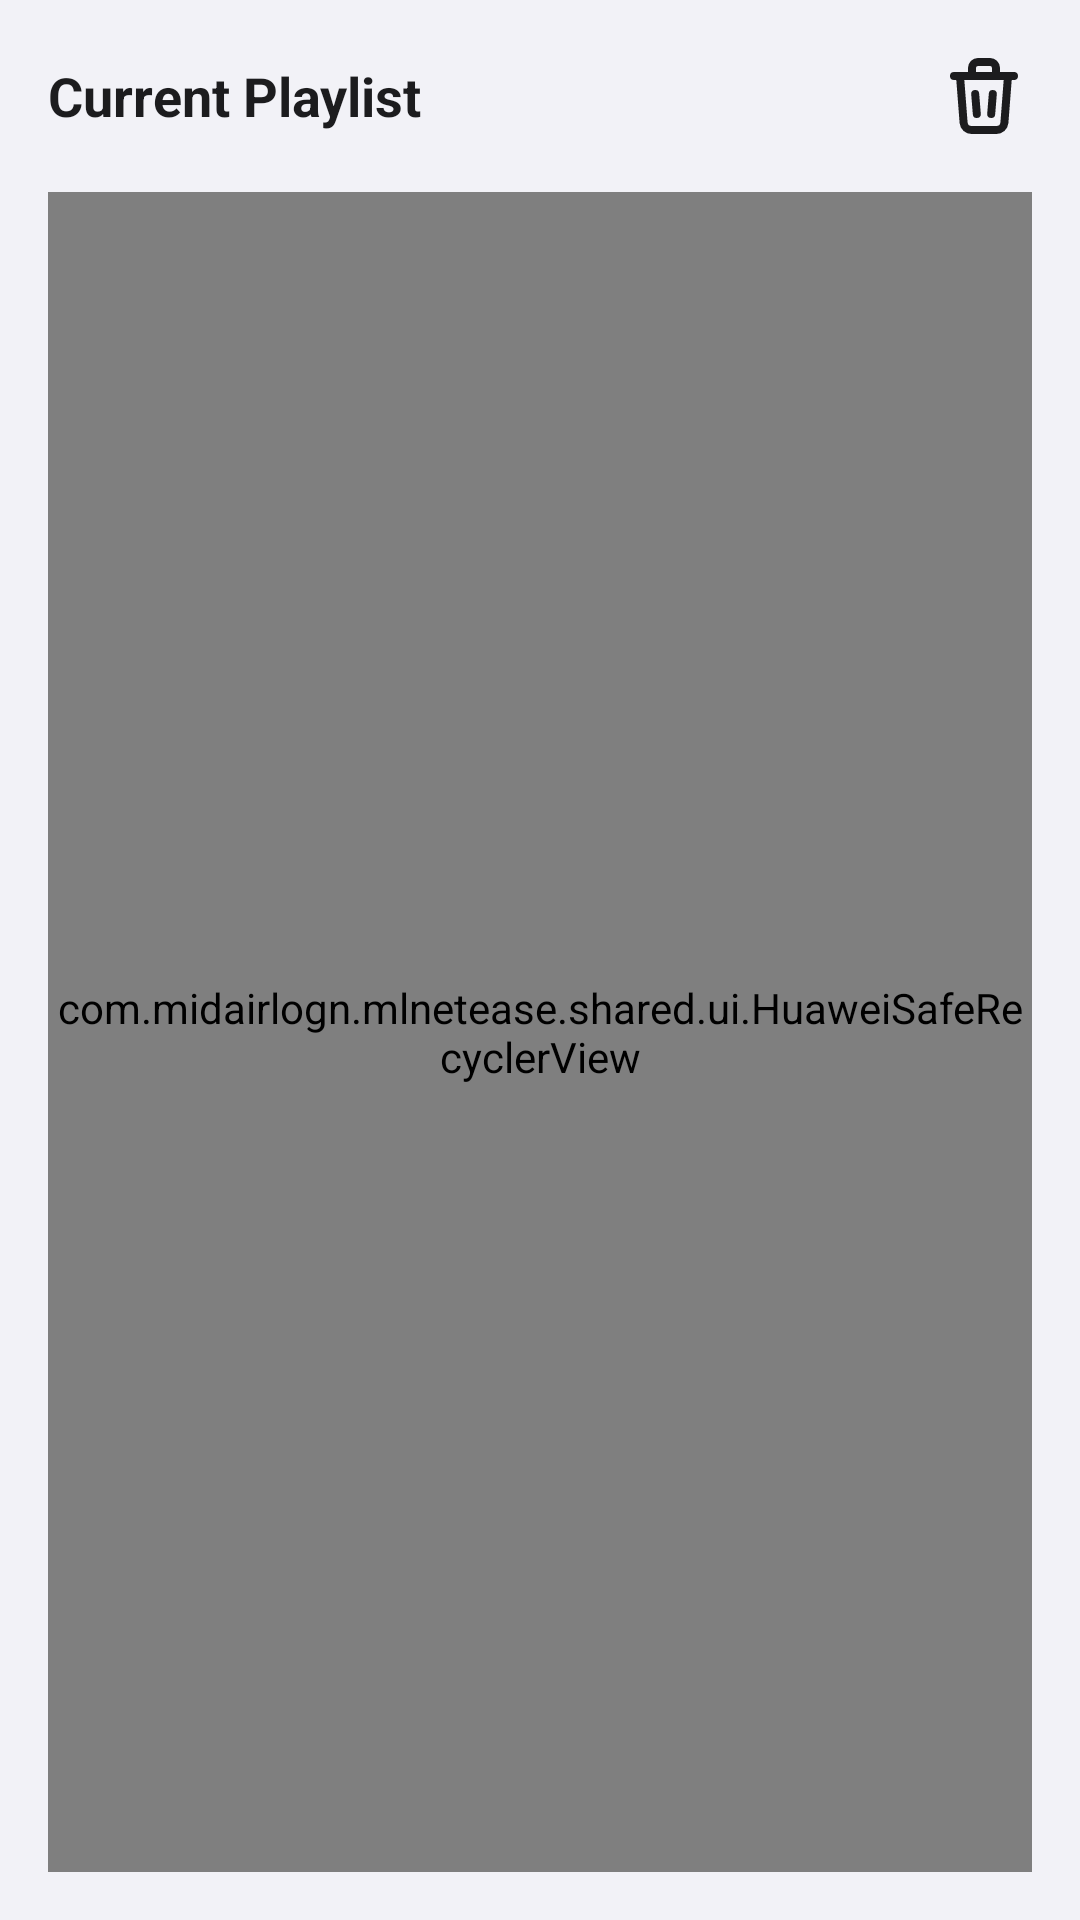

Icon click points for this 1080×1920 phone screenshot, format [x,y]:
Clear Playlist: [984,96]
